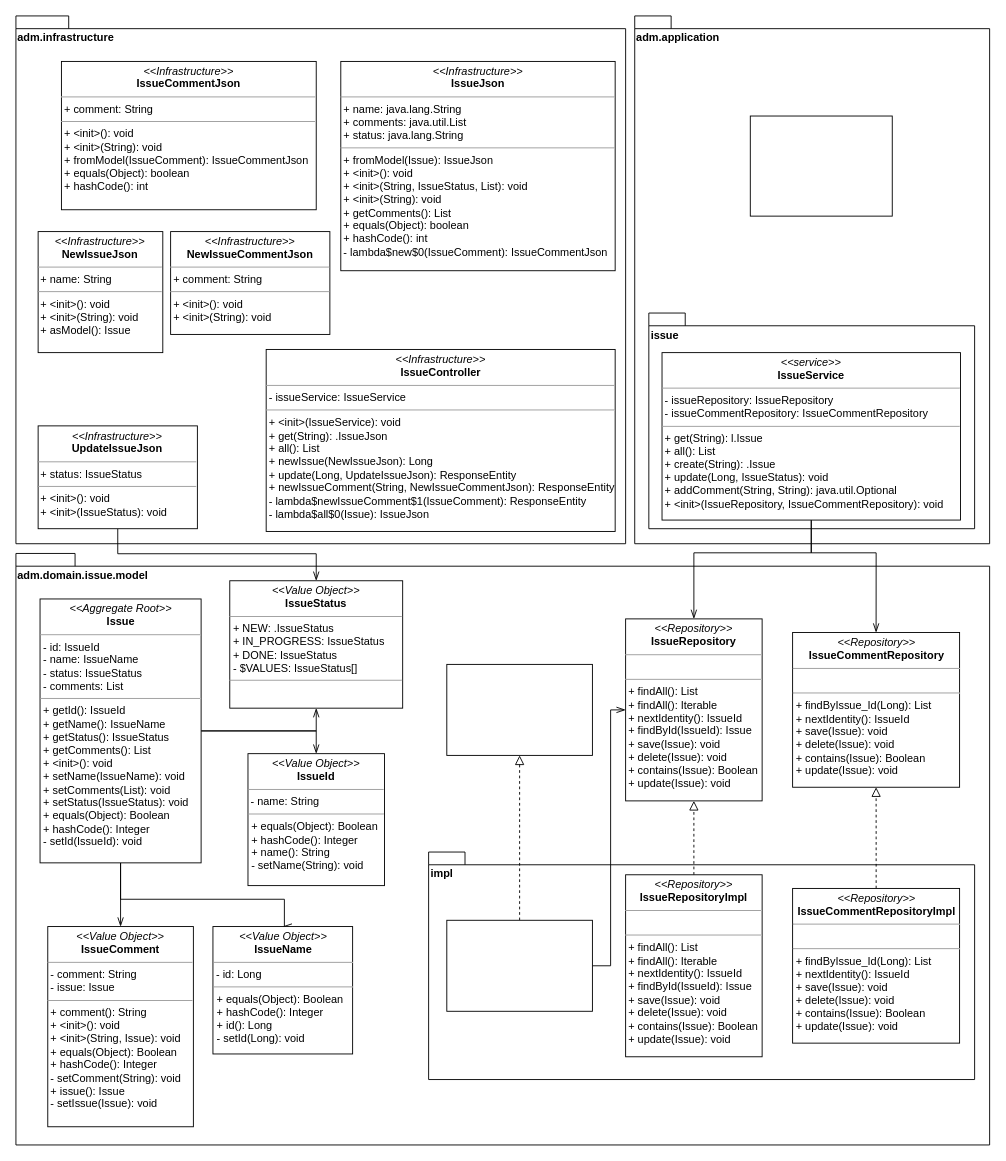
The diagram is 1006 pixels wide and 1161 high, and some of its shapes have lost their labels. Here are the shapes that lost their labels. From the top down, the centre of each, then its label:
At pixel 820 165: "<<Application Service>> Application + <init>(): void + main(String[]): void".
At pixel 519 709: "<<Factory>> IssueFactory + create(...): Issue".
At pixel 519 965: "<<Factory>> IssueFactoryImpl - repository: IssueRepository + create(...): Issue".
